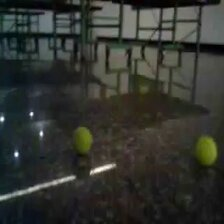tennis: (195, 135, 218, 168), (72, 126, 93, 156)
